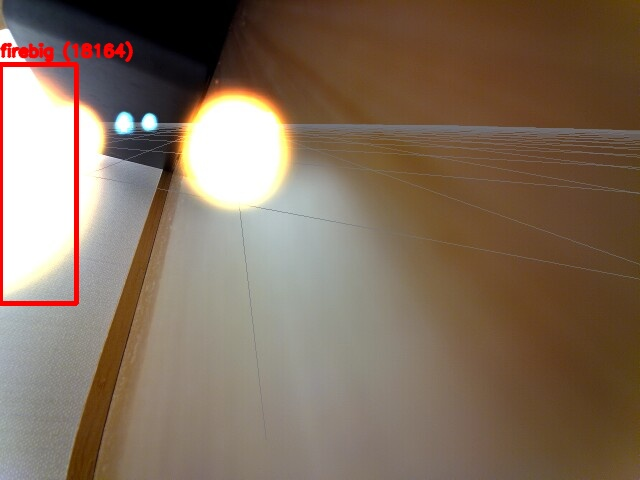firebig: (0, 64, 76, 303)
